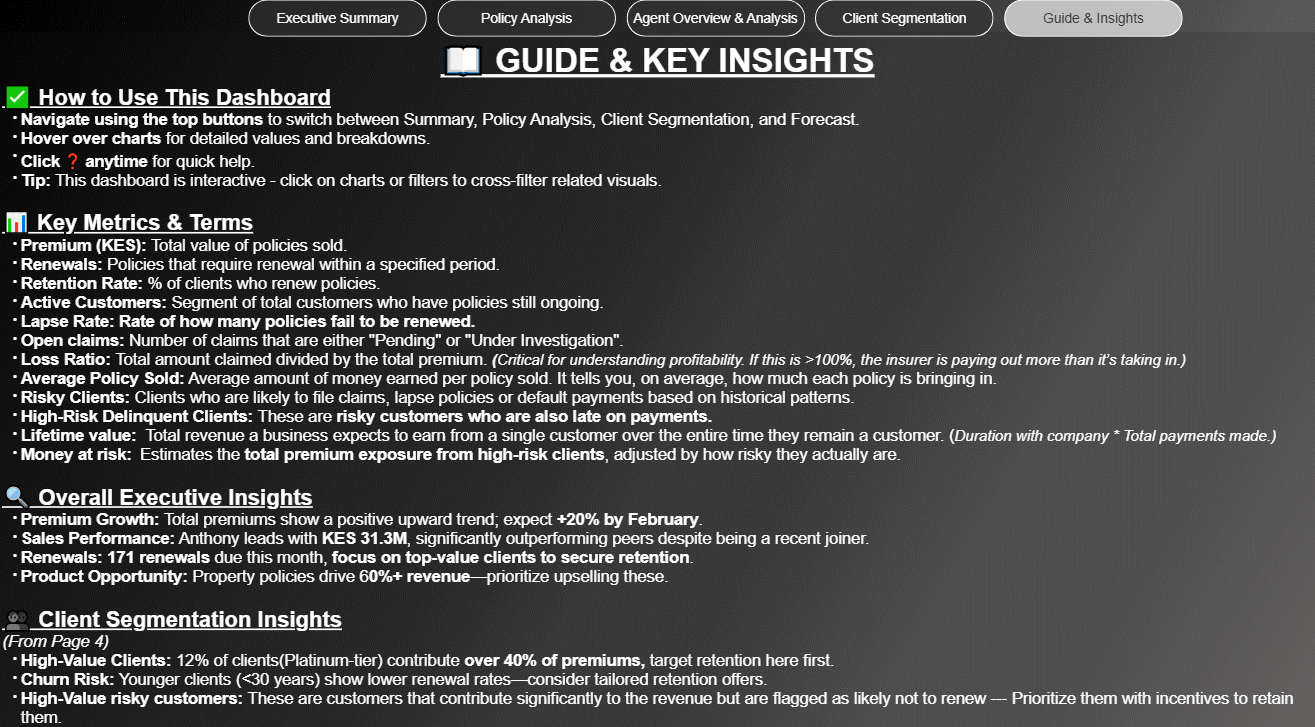

The dashboard page shown, as its layout file describes it:
{"tool":"powerbi","page":{"name":"Guide & Insights","canvas":[1280,720],"ordinal":4},"visuals":[{"type":"textbox","box":[0,38.7,1279.5,681.5],"z":1},{"type":"pageNavigator","box":[243.3,7.3,907.9,36],"z":502}]}

Visuals, with their boxes in screenshot pixels (x1, y1, x2, y2), scaled from the page's 1280x720 canvas onto the 1315x727 screenshot:
textbox: (0,39,1314,726)
pageNavigator: (250,7,1183,44)
